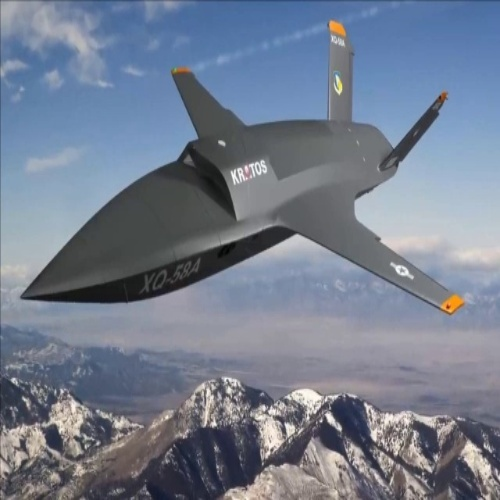uav: (25, 16, 465, 320)
